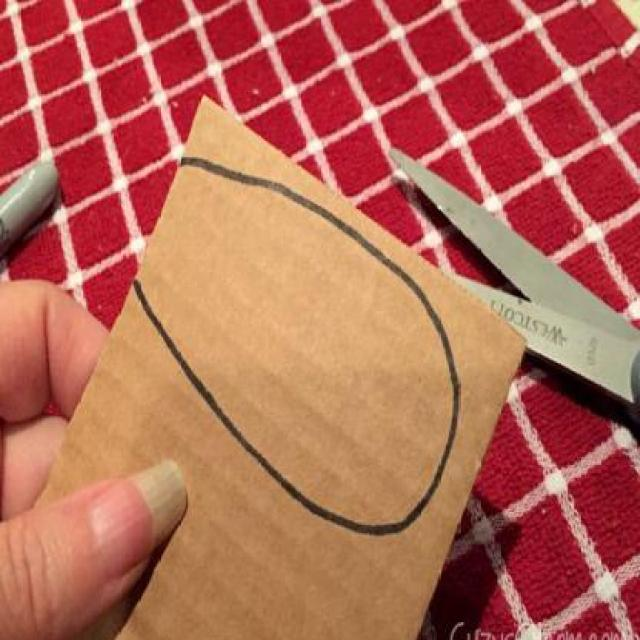box: (16, 97, 526, 640)
